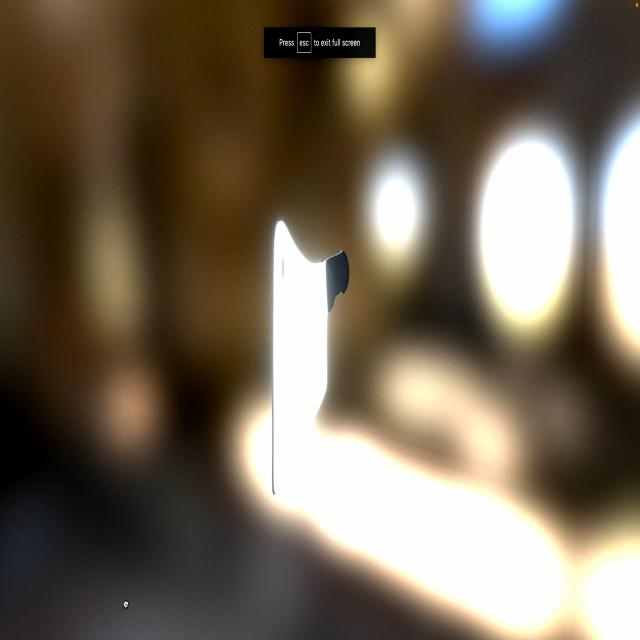cleaver: (267, 208, 348, 494)
